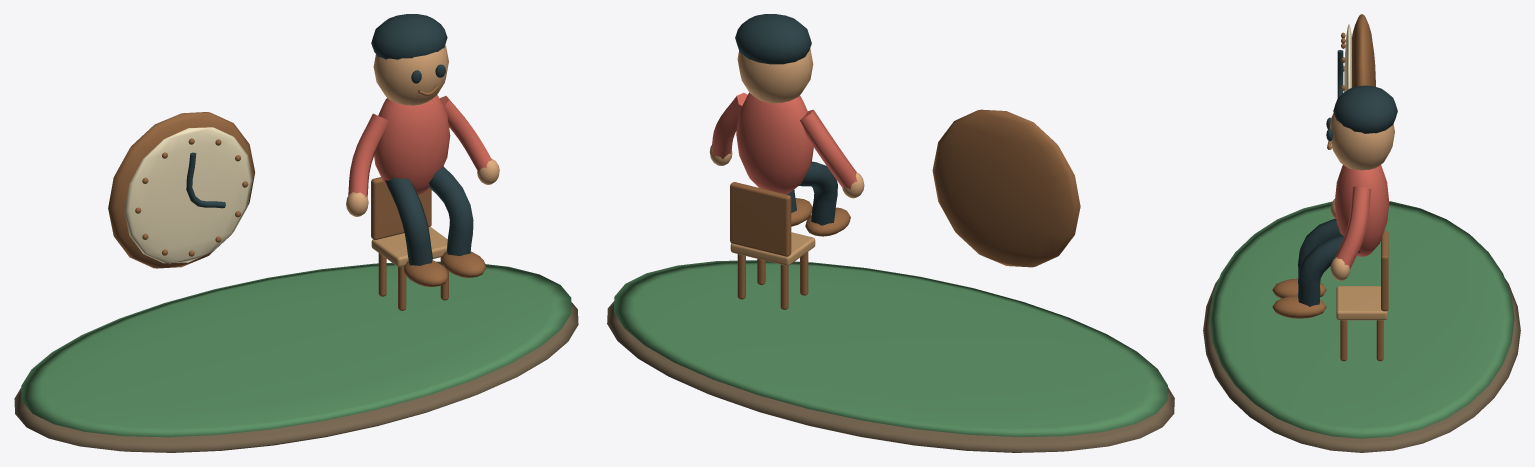
File: complete-first-time-to-wait.glb
3 renders of one model, left to right at view 1: azimuth 30°, elevation 25°; view 2: azimuth 150°, elevation 25°; view 3: azimuth 270°, elevation 25°, orthographic. The views are drawn at different scales.
Parts seen in each view (by area): view 1: complete-first-time-to-wait_surface_01, complete-first-time-to-wait_surface_03, complete-first-time-to-wait_surface_00, complete-first-time-to-wait_surface_02, complete-first-time-to-wait_surface_06, complete-first-time-to-wait_surface_04, complete-first-time-to-wait_surface_05, complete-first-time-to-wait_surface_07; view 2: complete-first-time-to-wait_surface_01, complete-first-time-to-wait_surface_02, complete-first-time-to-wait_surface_00, complete-first-time-to-wait_surface_06, complete-first-time-to-wait_surface_04, complete-first-time-to-wait_surface_05, complete-first-time-to-wait_surface_07; view 3: complete-first-time-to-wait_surface_01, complete-first-time-to-wait_surface_00, complete-first-time-to-wait_surface_04, complete-first-time-to-wait_surface_06, complete-first-time-to-wait_surface_02, complete-first-time-to-wait_surface_05, complete-first-time-to-wait_surface_07, complete-first-time-to-wait_surface_03.
Part boxes in pixels (x1,y1,x2,y2): complete-first-time-to-wait_surface_01: (21,261,571,437); complete-first-time-to-wait_surface_03: (124,127,252,263); complete-first-time-to-wait_surface_00: (14,302,578,452); complete-first-time-to-wait_surface_02: (108,85,486,310); complete-first-time-to-wait_surface_06: (348,95,491,197); complete-first-time-to-wait_surface_04: (186,14,473,265); complete-first-time-to-wait_surface_05: (346,45,499,216); complete-first-time-to-wait_surface_07: (371,226,447,267); complete-first-time-to-wait_surface_01: (614,260,1167,437); complete-first-time-to-wait_surface_02: (730,109,1080,309); complete-first-time-to-wait_surface_00: (607,301,1174,452); complete-first-time-to-wait_surface_06: (712,92,857,194); complete-first-time-to-wait_surface_04: (735,14,837,225); complete-first-time-to-wait_surface_05: (709,48,864,198); complete-first-time-to-wait_surface_07: (730,232,815,265); complete-first-time-to-wait_surface_01: (1209,201,1514,438); complete-first-time-to-wait_surface_00: (1203,278,1520,452); complete-first-time-to-wait_surface_04: (1298,50,1397,306); complete-first-time-to-wait_surface_06: (1334,165,1389,269); complete-first-time-to-wait_surface_02: (1272,14,1388,361); complete-first-time-to-wait_surface_05: (1329,113,1394,280); complete-first-time-to-wait_surface_07: (1336,286,1387,320); complete-first-time-to-wait_surface_03: (1344,24,1351,92).
Bounding box in the file's own units: 4.56 × 2.67 × 2.5.
